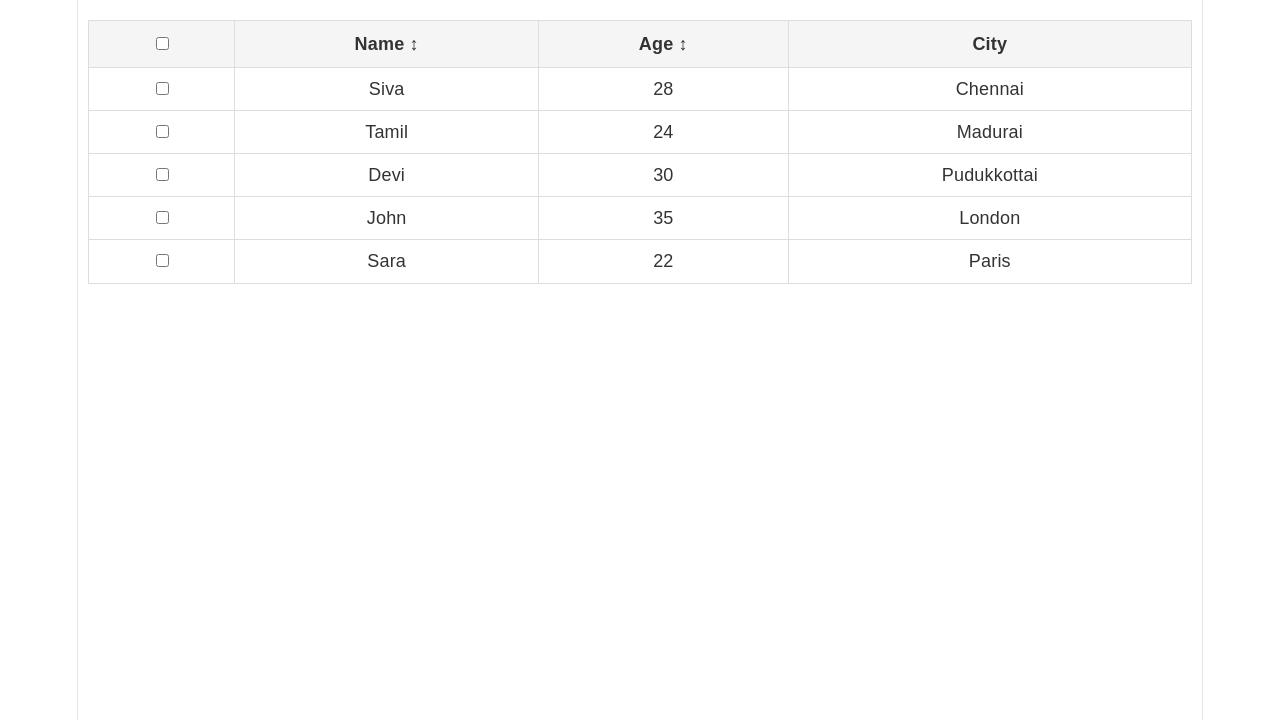
Test: DataTable › toggles sort direction on double-click
Click the column heading "Age ↕".
click(663, 44)  # box x1=539 y1=20 x2=788 y2=68
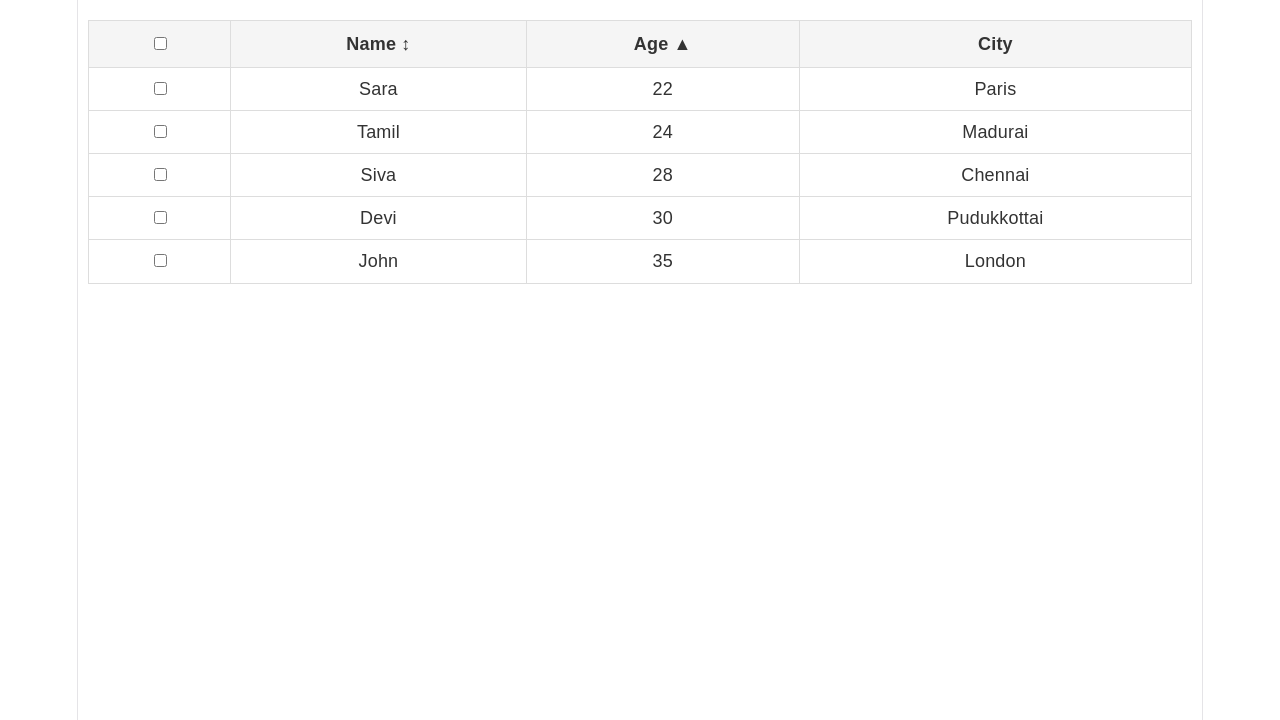
Click the column heading "Age ▲".
click(663, 44)  # box x1=526 y1=20 x2=799 y2=68
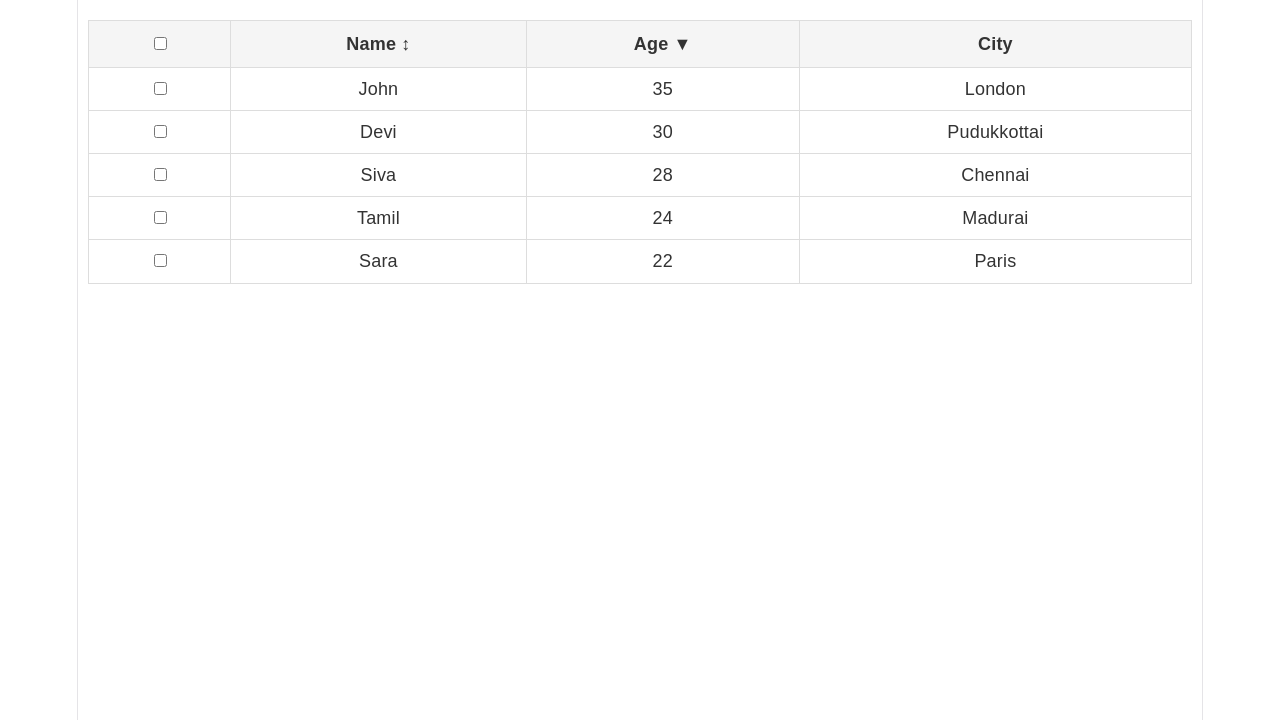
Expected: the cell "35" is shown, x1=526 y1=68 x2=799 y2=111
